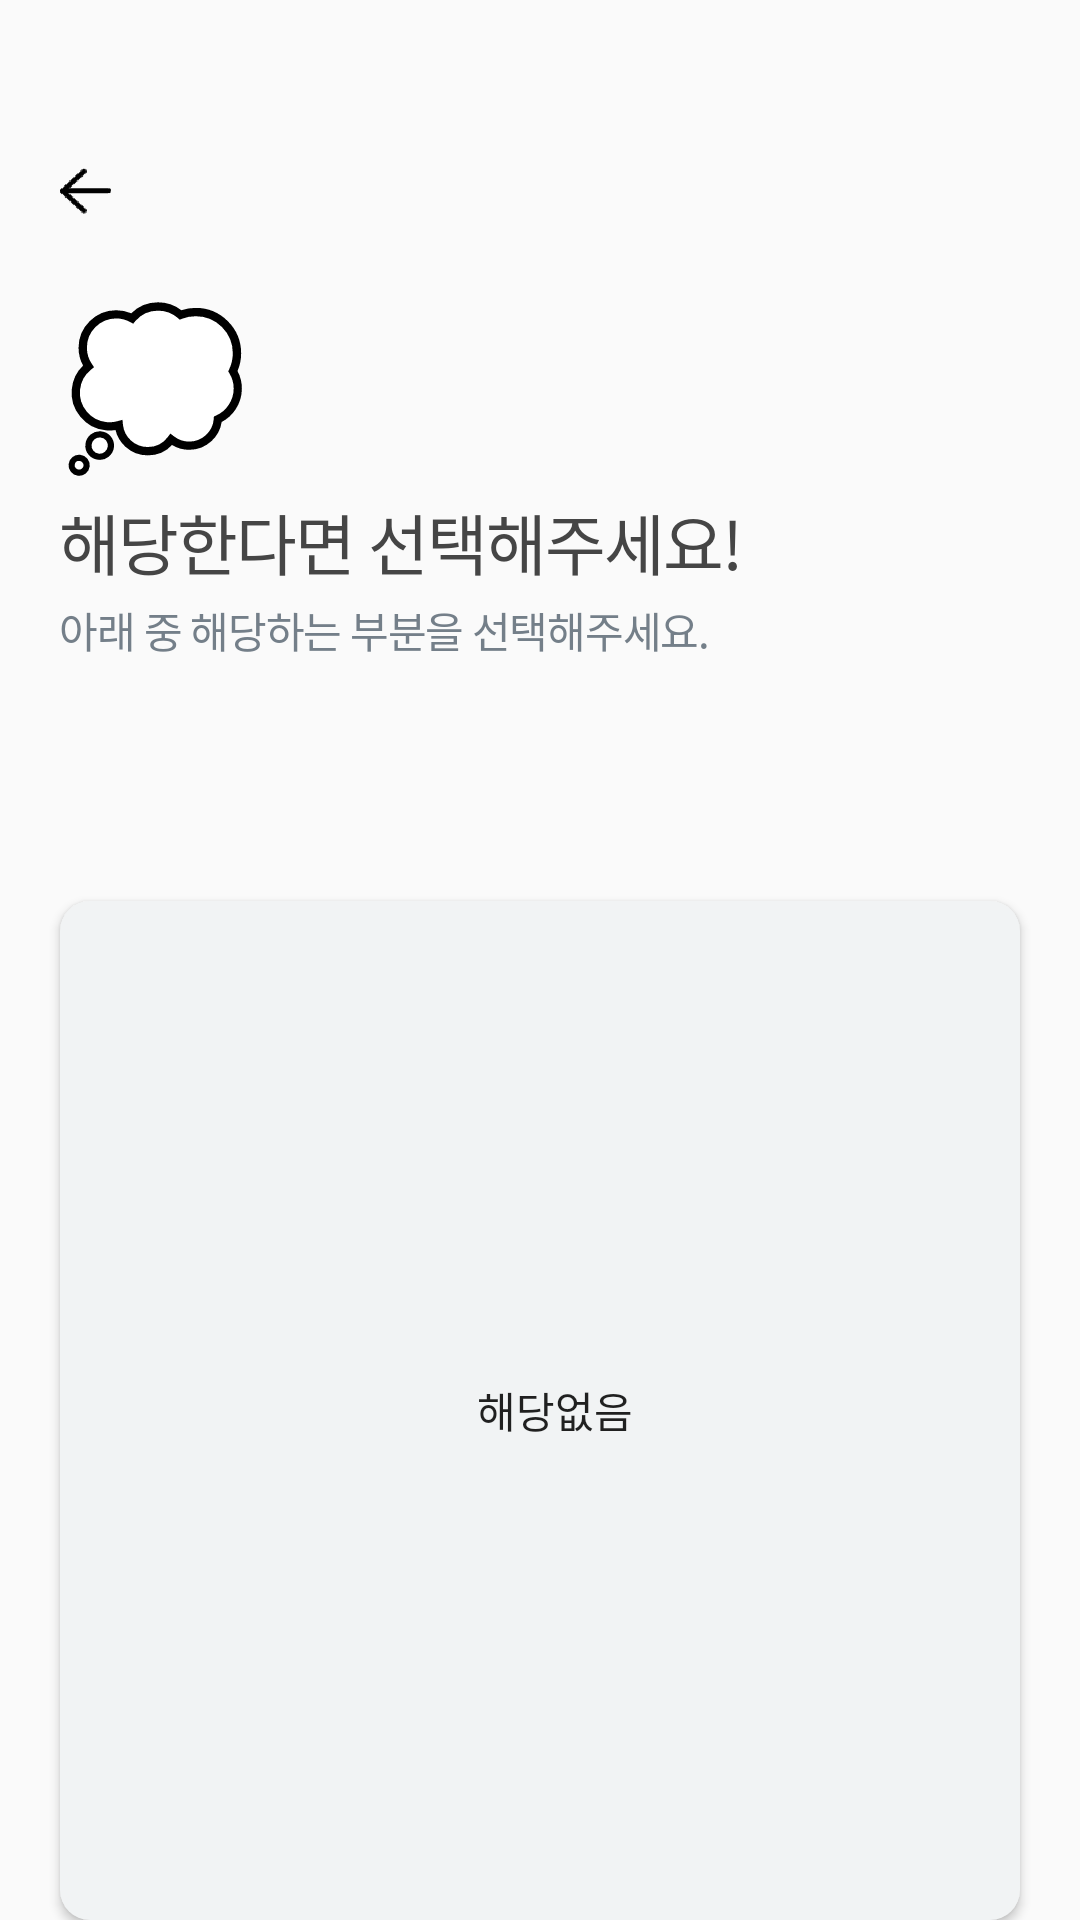

Named icons in this screenshot (1080 × 1920) and their bounding boxes, (x1, y1, x2, y2):
before: (60, 168, 111, 214)
